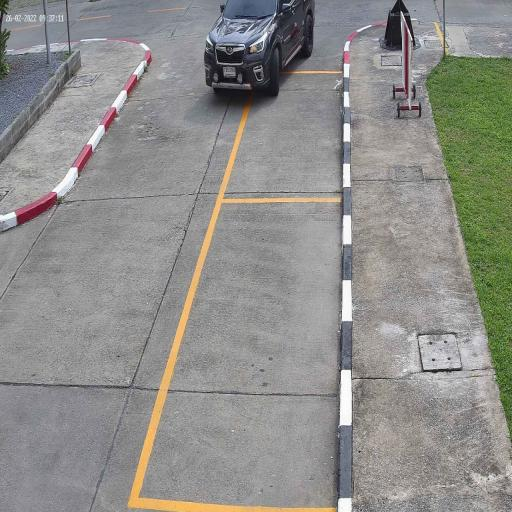car: (204, 0, 316, 97)
